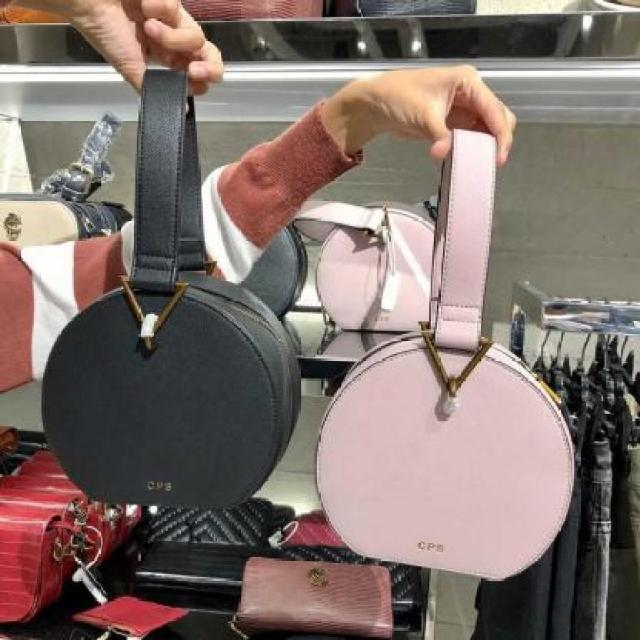Bag: (19, 39, 308, 533), (318, 101, 599, 604)
